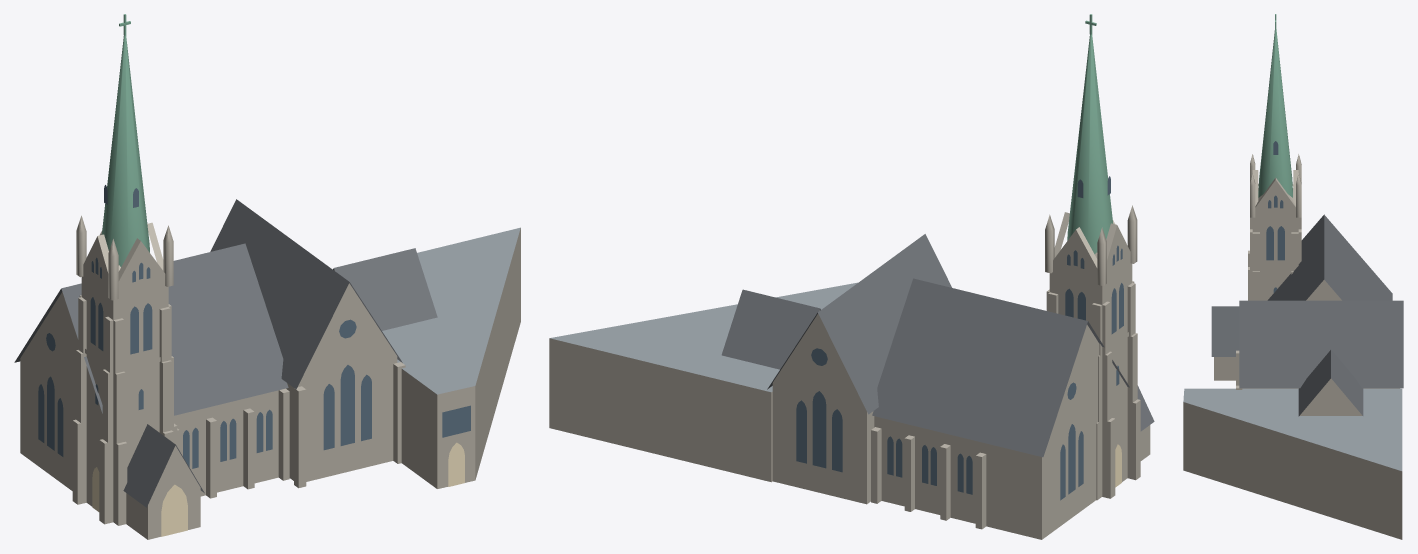
The model's file is indy-christ-church-cathedral.glb.
3 renders of one model, left to right at view 1: azimuth 30°, elevation 25°; view 2: azimuth 150°, elevation 25°; view 3: azimuth 270°, elevation 25°, orthographic. The views are drawn at different scales.
Parts seen in each view (by area): view 1: Christ Church Cathedral; view 2: Christ Church Cathedral; view 3: Christ Church Cathedral.
Part boxes in pixels (x1=…): Christ Church Cathedral: x1=14, y1=14, x2=520, y2=539; Christ Church Cathedral: x1=549, y1=14, x2=1154, y2=539; Christ Church Cathedral: x1=1183, y1=14, x2=1403, y2=539.
Size of the model in its own units: 47.1 by 42.4 by 23.85.
